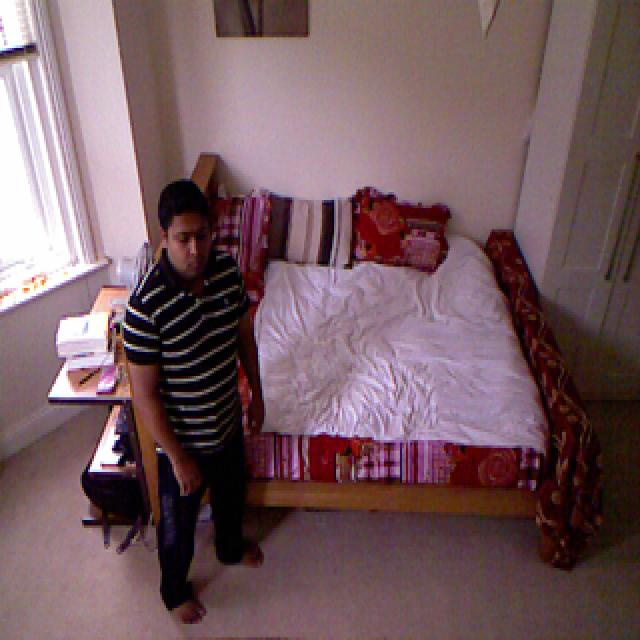standing: (124, 165, 264, 616)
